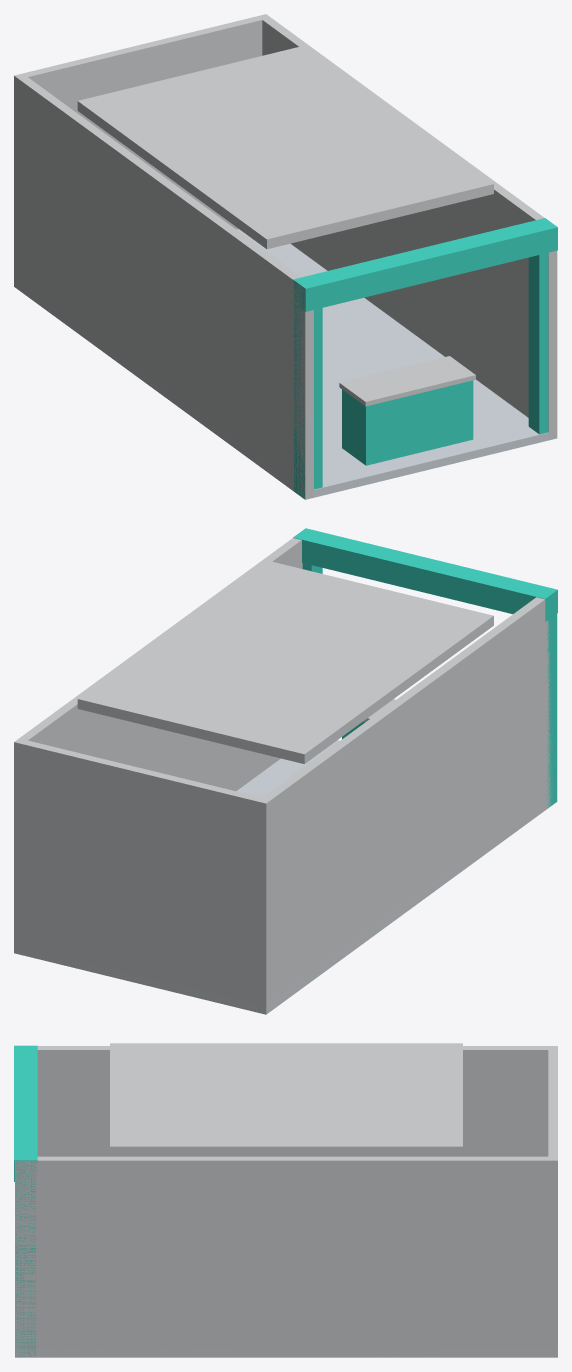
The picture shows the model from 3 angles, top to bottom: view 1: azimuth 30°, elevation 25°; view 2: azimuth 150°, elevation 25°; view 3: azimuth 270°, elevation 25°; orthographic projection. The views are drawn at different scales.
Parts seen in each view (by area): view 1: Exhibition Booth Concept; view 2: Exhibition Booth Concept; view 3: Exhibition Booth Concept.
Part boxes in pixels (x1,y1,x2,y2): Exhibition Booth Concept: (14, 14, 557, 499); Exhibition Booth Concept: (14, 528, 557, 1014); Exhibition Booth Concept: (14, 1043, 557, 1357).
Size of the model in its own units: 4 by 3.34 by 8.01.
